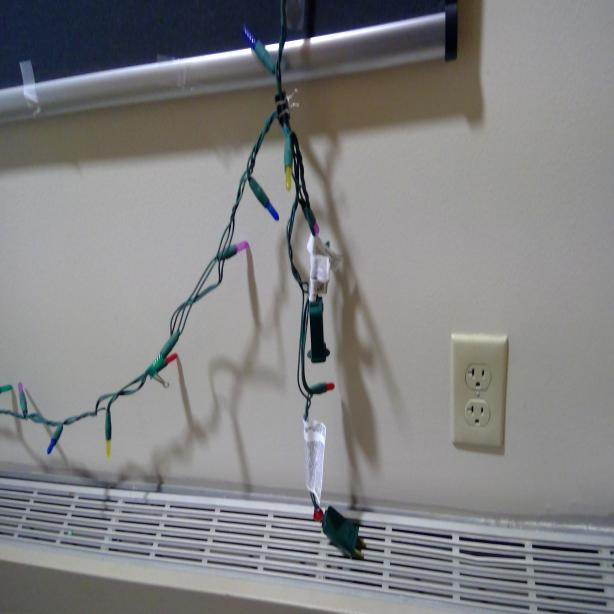typeb: (465, 395, 489, 428), (466, 363, 491, 391)
